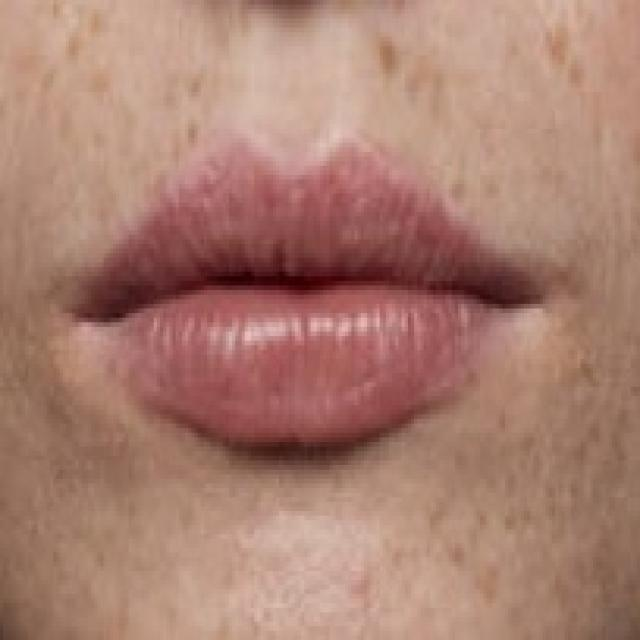closed-mouth: (56, 124, 552, 456)
